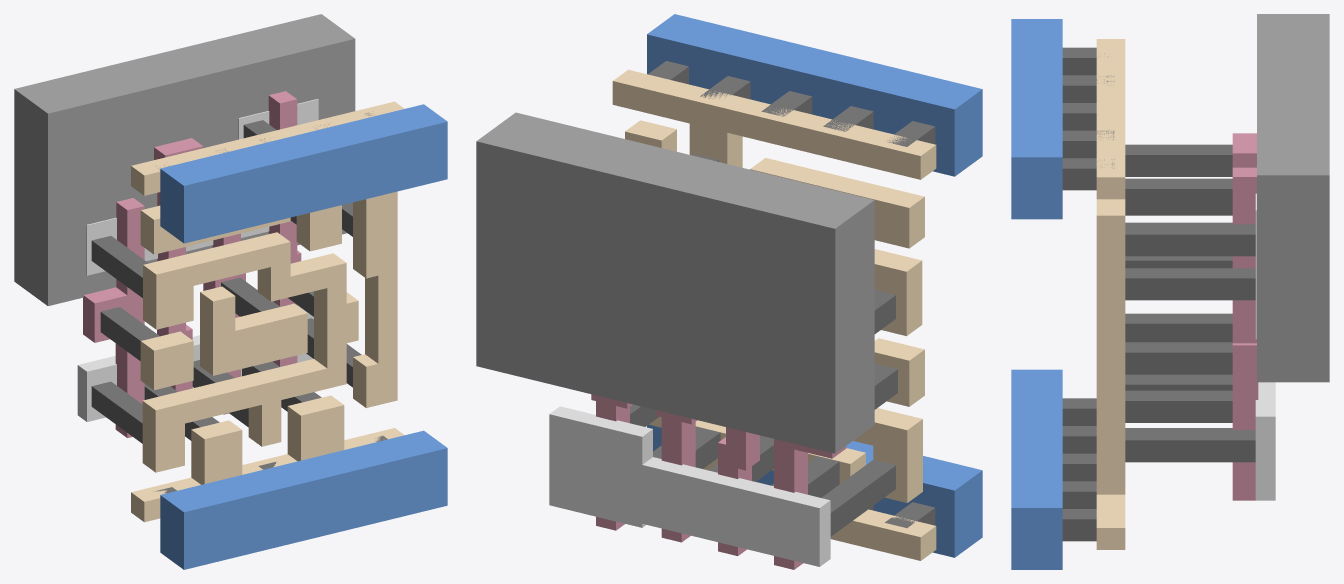
The model's file is sky130_fd_sc_hd__or3_1.gds.gltf.
3 views of the same model, side by side, from view 1: azimuth 30°, elevation 25°; view 2: azimuth 150°, elevation 25°; view 3: azimuth 270°, elevation 25° (orthographic). The views are drawn at different scales.
Visible parts, largest first — view 1: sky130_fd_sc_hd__or3_1_li1, sky130_fd_sc_hd__or3_1_met1, sky130_fd_sc_hd__or3_1_nwell, sky130_fd_sc_hd__or3_1_licon, sky130_fd_sc_hd__or3_1_poly, sky130_fd_sc_hd__or3_1_diff; view 2: sky130_fd_sc_hd__or3_1_nwell, sky130_fd_sc_hd__or3_1_li1, sky130_fd_sc_hd__or3_1_met1, sky130_fd_sc_hd__or3_1_diff, sky130_fd_sc_hd__or3_1_licon, sky130_fd_sc_hd__or3_1_poly, sky130_fd_sc_hd__or3_1_mcon; view 3: sky130_fd_sc_hd__or3_1_licon, sky130_fd_sc_hd__or3_1_nwell, sky130_fd_sc_hd__or3_1_met1, sky130_fd_sc_hd__or3_1_li1, sky130_fd_sc_hd__or3_1_mcon, sky130_fd_sc_hd__or3_1_poly, sky130_fd_sc_hd__or3_1_diff.
Part boxes in pixels (x1,y1,x2,y2): sky130_fd_sc_hd__or3_1_li1: [131, 101, 404, 522]; sky130_fd_sc_hd__or3_1_met1: [160, 104, 447, 569]; sky130_fd_sc_hd__or3_1_nwell: [14, 14, 355, 305]; sky130_fd_sc_hd__or3_1_licon: [91, 120, 361, 443]; sky130_fd_sc_hd__or3_1_poly: [83, 91, 301, 438]; sky130_fd_sc_hd__or3_1_diff: [77, 99, 318, 421]; sky130_fd_sc_hd__or3_1_nwell: [476, 112, 874, 453]; sky130_fd_sc_hd__or3_1_li1: [612, 69, 936, 560]; sky130_fd_sc_hd__or3_1_met1: [647, 14, 982, 557]; sky130_fd_sc_hd__or3_1_diff: [549, 406, 830, 566]; sky130_fd_sc_hd__or3_1_licon: [630, 154, 897, 536]; sky130_fd_sc_hd__or3_1_poly: [591, 394, 846, 569]; sky130_fd_sc_hd__or3_1_mcon: [648, 61, 935, 527]; sky130_fd_sc_hd__or3_1_licon: [1125, 144, 1255, 462]; sky130_fd_sc_hd__or3_1_nwell: [1257, 14, 1329, 382]; sky130_fd_sc_hd__or3_1_met1: [1011, 19, 1062, 569]; sky130_fd_sc_hd__or3_1_li1: [1096, 39, 1125, 549]; sky130_fd_sc_hd__or3_1_mcon: [1062, 47, 1114, 541]; sky130_fd_sc_hd__or3_1_poly: [1232, 133, 1258, 500]; sky130_fd_sc_hd__or3_1_diff: [1255, 193, 1275, 500].
Bounding box in the file's own units: 2.68 × 3.2 × 2.24.
